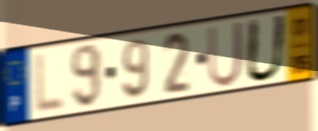2: (161, 30, 191, 96)
9: (69, 42, 104, 111), (120, 36, 151, 102)
L: (33, 49, 66, 117)
U: (243, 12, 289, 85), (206, 18, 246, 90)
